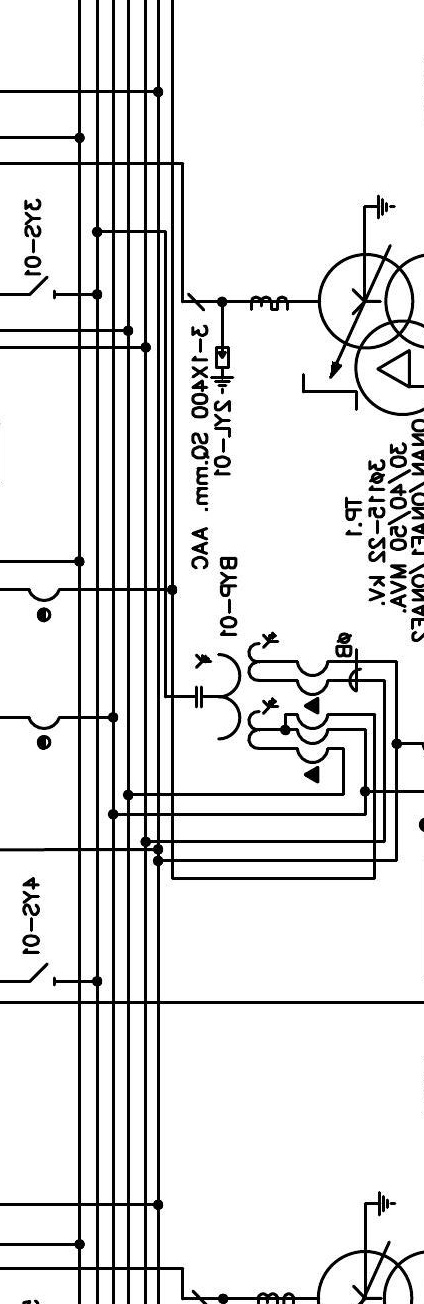115_cvt_3p: (195, 631, 280, 751)
115_ds: (28, 275, 56, 301), (28, 962, 56, 988)
115_la: (209, 346, 235, 395)
